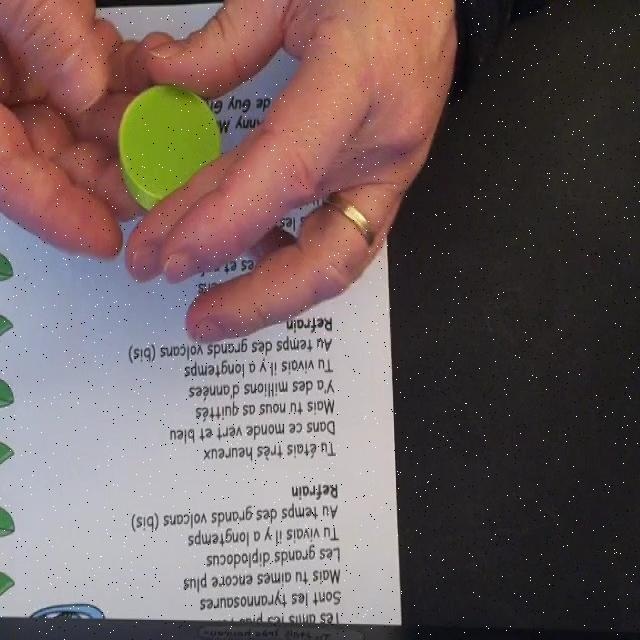round: (118, 81, 224, 214)
